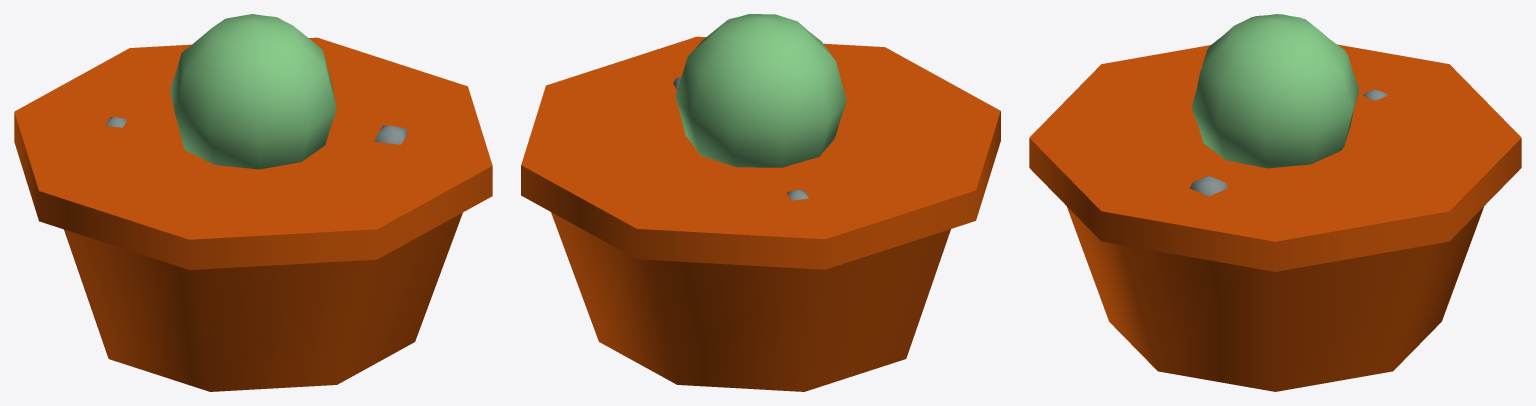
The model's file is cabbage.glb.
The picture shows the model from 3 angles, left to right: view 1: azimuth 30°, elevation 25°; view 2: azimuth 150°, elevation 25°; view 3: azimuth 270°, elevation 25°; orthographic projection.
Parts seen in each view (by area): view 1: rim, pot, cabbage_head, pebble_1; view 2: rim, pot, cabbage_head; view 3: rim, pot, cabbage_head, pebble_1.
Part boxes in pixels (<box>): rim: <box>14,37,492,269</box>; pot: <box>64,212,462,391</box>; cabbage_head: <box>170,14,336,169</box>; pebble_1: <box>374,125,407,144</box>; rim: <box>521,36,1000,269</box>; pot: <box>551,212,950,391</box>; cabbage_head: <box>675,14,846,167</box>; rim: <box>1029,44,1521,271</box>; pot: <box>1067,207,1483,391</box>; cabbage_head: <box>1192,14,1358,168</box>; pebble_1: <box>1190,175,1227,196</box>.
Bounding box in the file's own units: 0.74 × 0.4975 × 0.74.
